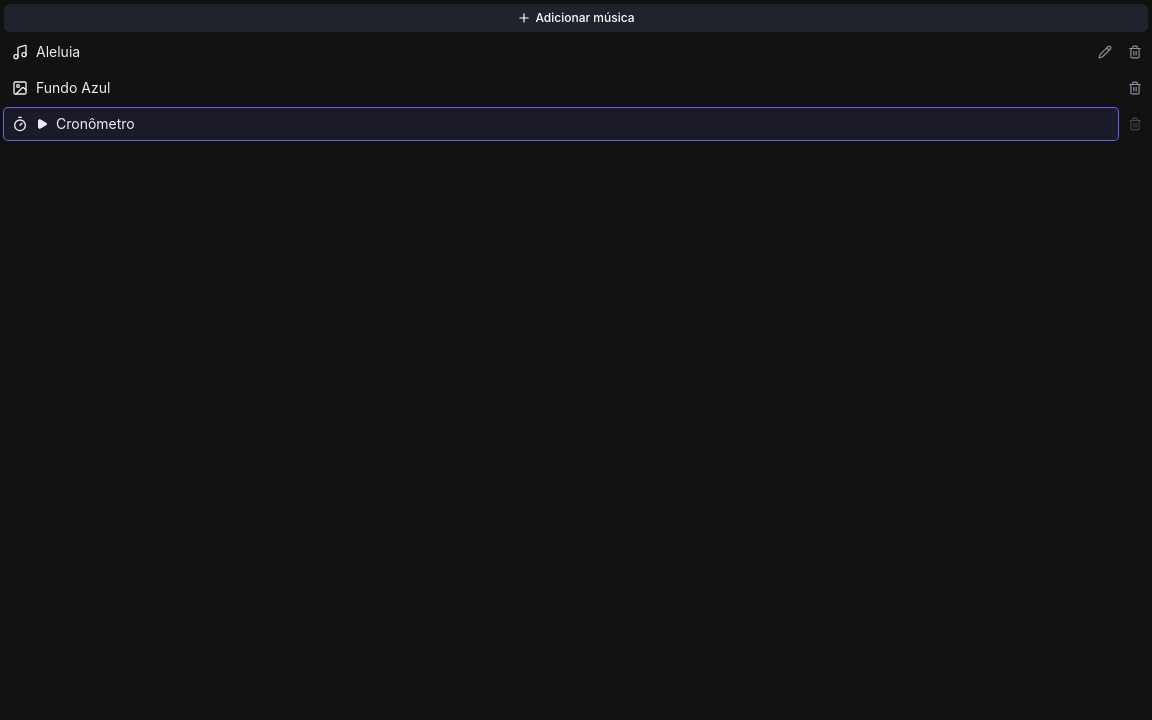
Scenario: SetItemList editable › shows the removal error as its localized message
Step 1. Click the button named "Remover Aleluia" → x=1135, y=52, box [1122,39,1148,65]
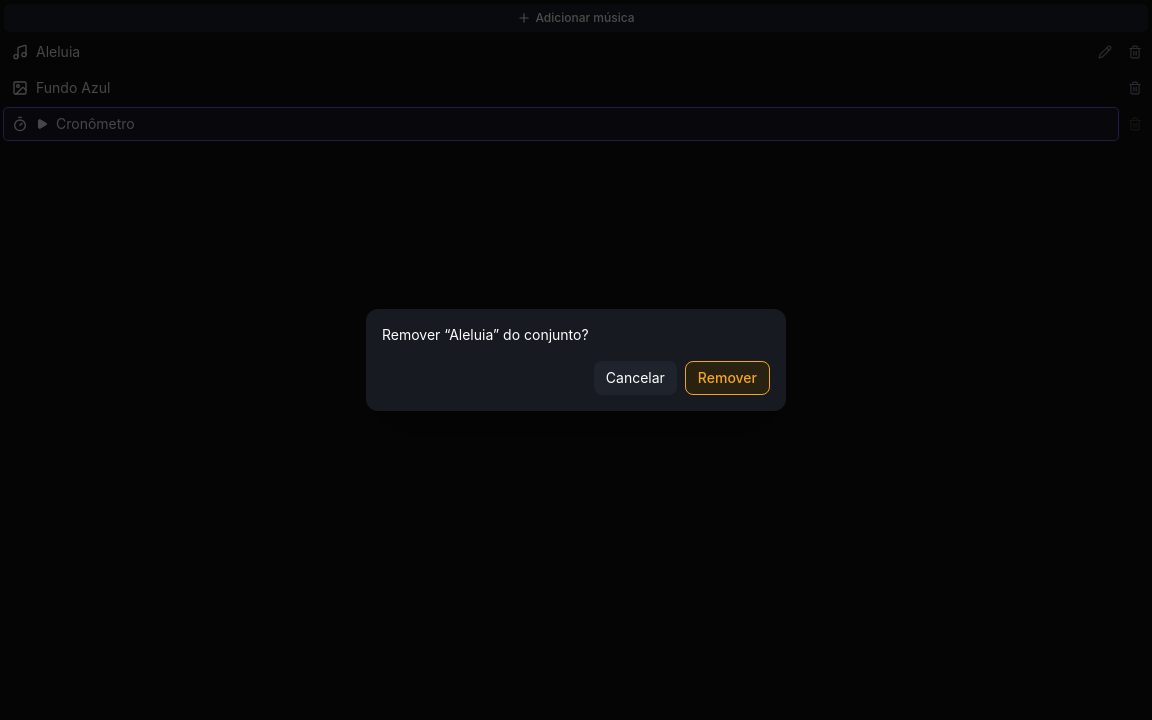
Step 2. Click the button "Remover" → x=727, y=378, box [685,361,770,395]
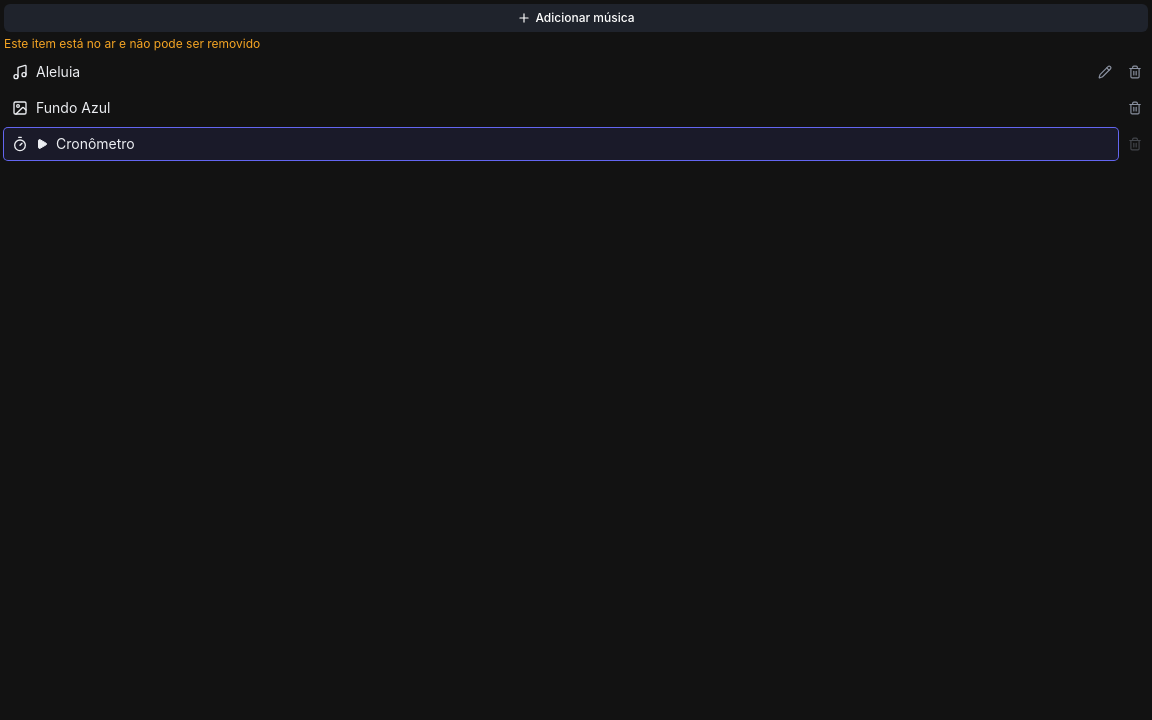
Now the message reads "Este item está no ar e não pode ser removido", box [4,36,260,51]
